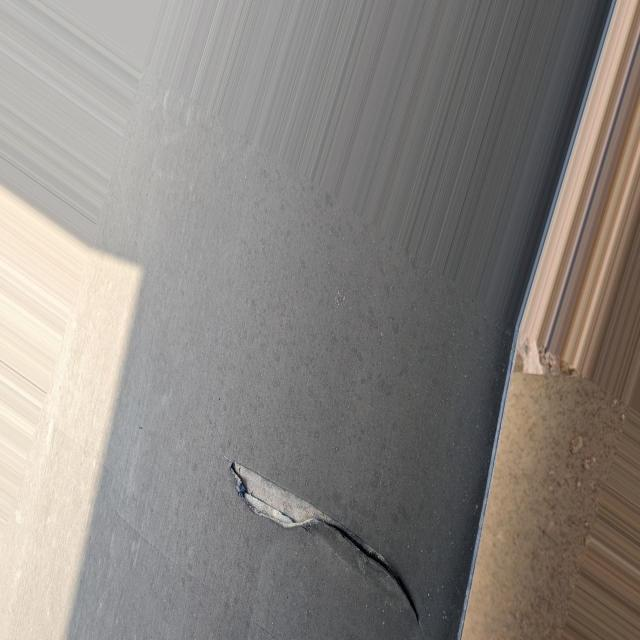Tear: (228, 462, 418, 622)
